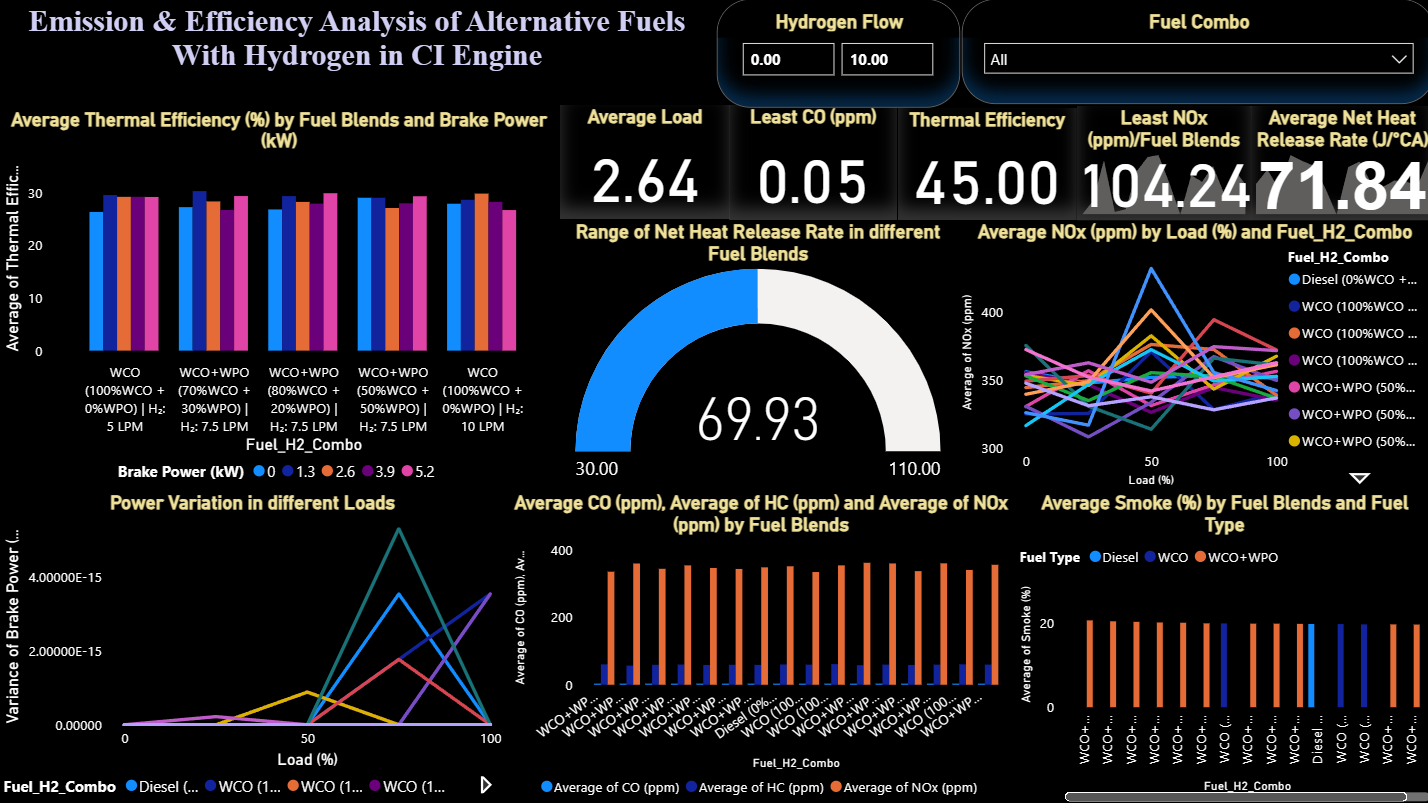

This screenshot's page, from the dashboard's own definition file:
{"tool":"powerbi","page":{"name":"DAX","canvas":[1280,720],"ordinal":0},"visuals":[{"type":"clusteredColumnChart","title":"Average Thermal Efficiency (%) by Fuel Blends and Brake Power (kW)","fields":{"Category":["Raw Experimental Data.Fuel_H2_Combo"],"Y":["Avg(Raw Experimental Data.Thermal Efficiency (%))"],"Series":["Raw Experimental Data.Brake Power (kW)"]},"box":[0,96.5,500.7,342.6],"z":0},{"type":"slicer","title":"Fuel Combo","fields":{"Values":["Raw Experimental Data.Fuel_H2_Combo"]},"box":[858.3,0,421.9,93.5],"z":1000},{"type":"kpi","title":"Average Net Heat Release Rate (J/°CA)","fields":{"TrendLine":["Raw Experimental Data.Fuel_H2_Combo"],"Indicator":["Avg(Raw Experimental Data.Net Heat Release Rate (J/°CA))"]},"box":[1116,95.3,164.1,101.3],"z":2000},{"type":"card","title":"Average Load","fields":{"Values":["Avg(Raw Experimental Data.Brake Power (kW))"]},"box":[500.7,94.1,150.8,101.3],"z":3000},{"type":"lineChart","title":"Power Variation in different Loads","fields":{"Category":["Raw Experimental Data.Load (%)"],"Y":["Sum(Raw Experimental Data.Brake Power (kW))"],"Series":["Raw Experimental Data.Fuel_H2_Combo"]},"box":[0,439.1,453.6,281.1],"z":4000},{"type":"card","title":"Thermal Efficiency","fields":{"Values":["Max(Raw Experimental Data.Thermal Efficiency (%))"]},"box":[801.1,96.5,159.3,100.1],"z":5000},{"type":"kpi","title":"Least NOx (ppm)/Fuel Blends","fields":{"Indicator":["Min(Raw Experimental Data.NOx (ppm))"],"TrendLine":["Raw Experimental Data.Fuel_H2_Combo"]},"box":[960.3,95.3,155.6,101.3],"z":6000},{"type":"clusteredColumnChart","title":"Average CO (ppm), Average of HC (ppm) and Average of NOx (ppm) by Fuel Blends","fields":{"Category":["Raw Experimental Data.Fuel_H2_Combo"],"Y":["Avg(Raw Experimental Data.CO (ppm))","Avg(Raw Experimental Data.HC (ppm))","Avg(Raw Experimental Data.NOx (ppm))"]},"box":[453.6,439.1,451.2,281.1],"z":7000},{"type":"lineChart","title":"Average NOx (ppm) by Load (%) and Fuel_H2_Combo","fields":{"Category":["Raw Experimental Data.Load (%)"],"Series":["Raw Experimental Data.Fuel_H2_Combo"],"Y":["Avg(Raw Experimental Data.NOx (ppm))"]},"box":[853,196.6,427.1,242.5],"z":8000},{"type":"clusteredColumnChart","title":"Average Smoke (%) by Fuel Blends and Fuel Type","fields":{"Category":["Raw Experimental Data.Fuel_H2_Combo"],"Y":["Avg(Raw Experimental Data.Smoke (%))"],"Series":["Raw Experimental Data.Fuel Type"]},"box":[904.8,439.1,375.2,281.1],"z":9000},{"type":"card","title":"Least CO (ppm)","fields":{"Values":["Min(Raw Experimental Data.CO (ppm))"]},"box":[651.5,94.1,149.6,102.5],"z":10000},{"type":"slicer","title":"Hydrogen Flow","fields":{"Values":["Raw Experimental Data.Hydrogen Flow (lpm)"]},"box":[640.6,0,217.2,96.5],"z":11000},{"type":"gauge","title":"Range of Net Heat Release Rate in different Fuel Blends","fields":{"Y":["Avg(Raw Experimental Data.Net Heat Release Rate (J/°CA))"],"MaxValue":["Max(Raw Experimental Data.Net Heat Release Rate (J/°CA))2"],"MinValue":["Min(Raw Experimental Data.Net Heat Release Rate (J/°CA))1"]},"box":[500.7,196.6,352.3,242.5],"z":12000},{"type":"textbox","box":[0,0,639.4,94.1],"z":13000}]}

Visuals, with their boxes in screenshot pixels (x1, y1, x2, y2), scaled from the page's 1280x720 canvas onto the 1428x803 screenshot:
"Average Thermal Efficiency (%) by Fuel Blends and Brake Power (kW)" clusteredColumnChart: bbox=(0, 108, 559, 490)
"Fuel Combo" slicer: bbox=(958, 0, 1427, 104)
"Average Net Heat Release Rate (J/°CA)" kpi: bbox=(1245, 106, 1427, 219)
"Average Load" card: bbox=(559, 105, 727, 218)
"Power Variation in different Loads" lineChart: bbox=(0, 490, 506, 802)
"Thermal Efficiency" card: bbox=(894, 108, 1071, 219)
"Least NOx (ppm)/Fuel Blends" kpi: bbox=(1071, 106, 1245, 219)
"Average CO (ppm), Average of HC (ppm) and Average of NOx (ppm) by Fuel Blends" clusteredColumnChart: bbox=(506, 490, 1009, 802)
"Average NOx (ppm) by Load (%) and Fuel_H2_Combo" lineChart: bbox=(952, 219, 1427, 490)
"Average Smoke (%) by Fuel Blends and Fuel Type" clusteredColumnChart: bbox=(1009, 490, 1427, 802)
"Least CO (ppm)" card: bbox=(727, 105, 894, 219)
"Hydrogen Flow" slicer: bbox=(715, 0, 957, 108)
"Range of Net Heat Release Rate in different Fuel Blends" gauge: bbox=(559, 219, 952, 490)
textbox: bbox=(0, 0, 713, 105)
